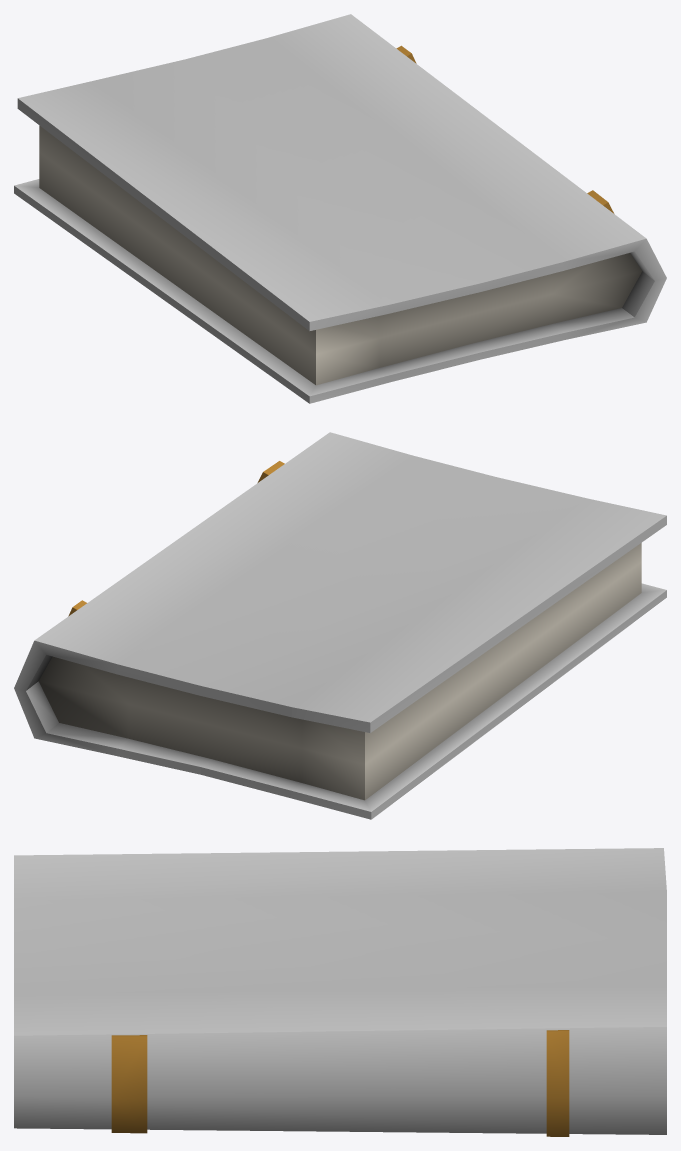
Rendered from obj_bookClosed_D_LOW.FBX.
The picture shows the model from 3 angles, top to bottom: view 1: azimuth 30°, elevation 25°; view 2: azimuth 150°, elevation 25°; view 3: azimuth 270°, elevation 25°; orthographic projection. The views are drawn at different scales.
Parts seen in each view (by area): view 1: obj_bookClosed_D_LOW; view 2: obj_bookClosed_D_LOW; view 3: obj_bookClosed_D_LOW.
Part boxes in pixels (x1,y1,x2,y2): obj_bookClosed_D_LOW: [14, 14, 666, 403]; obj_bookClosed_D_LOW: [14, 432, 666, 819]; obj_bookClosed_D_LOW: [14, 848, 666, 1136].
Bounding box in the file's own units: 0.7907 × 0.203 × 1.11.
